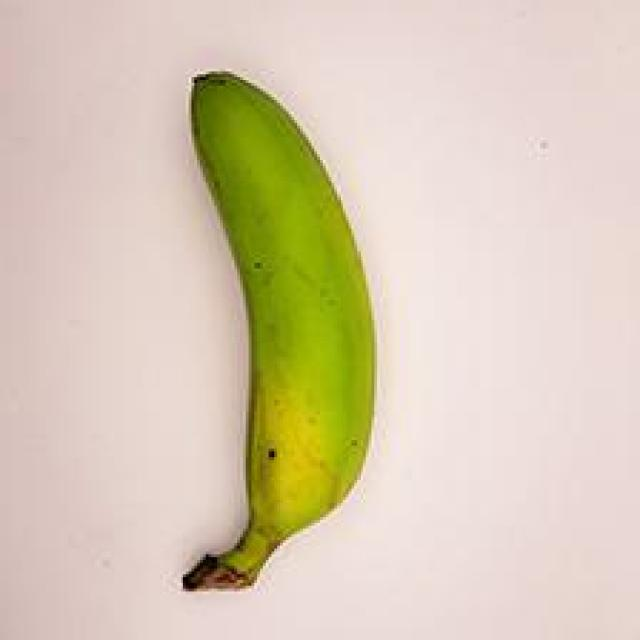Unripe: (123, 36, 412, 624)
